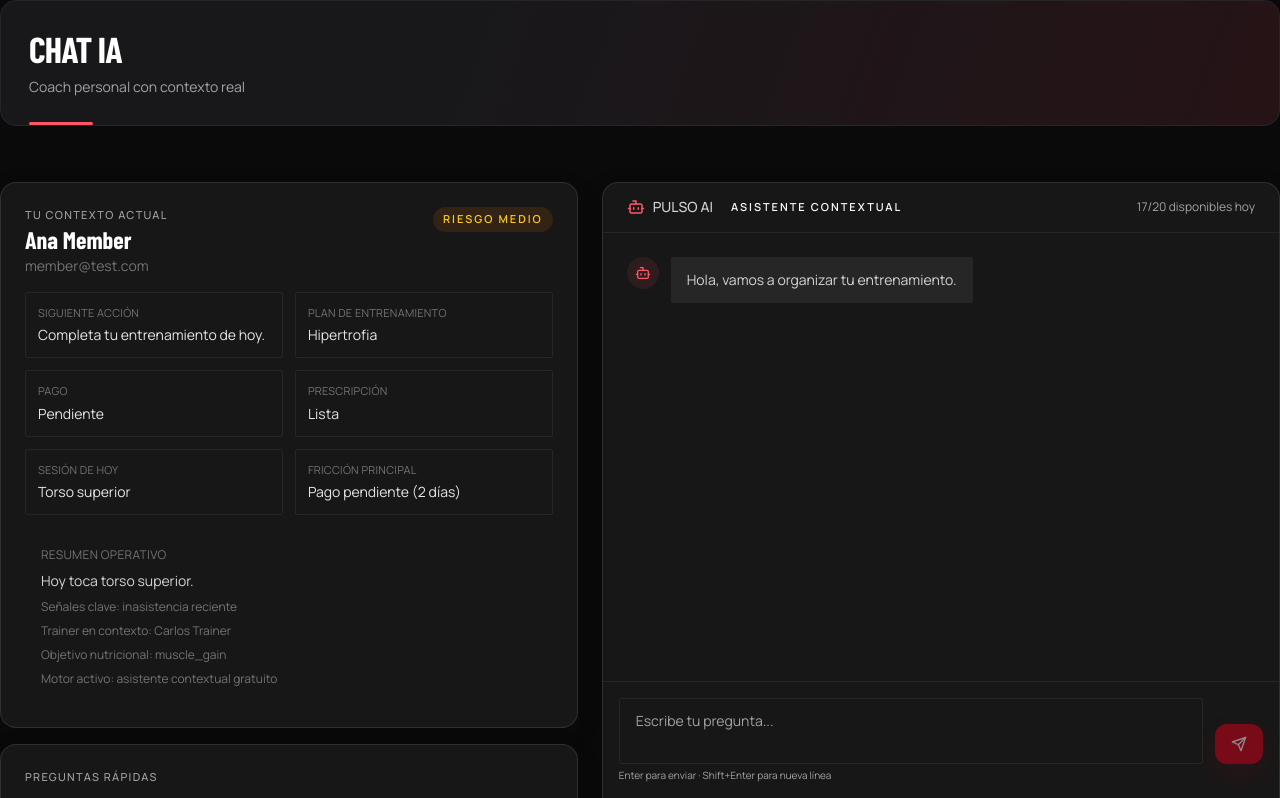
it: AiChatPage › renders member context and sends a contextualized message
The width and height of the screenshot is (1280, 798).
Check: the element with test id "chat-context-panel" is shown, box [0,182,578,728]
Check: the text "Hipertrofia" is shown, box [308,325,377,344]
Type "Necesito ayuda con mi rutina" into the text box with test id "chat-input" at (911, 730), box [619,698,1203,764]
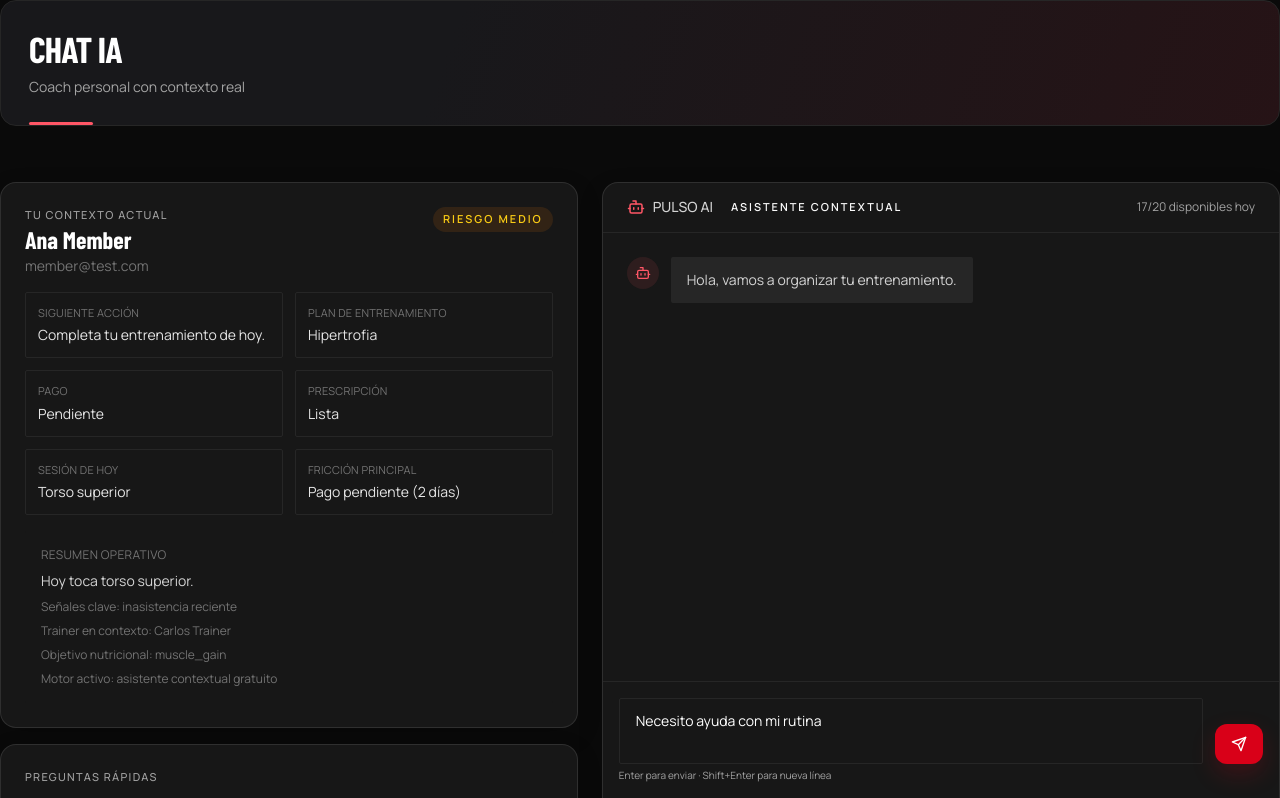
Click the button with test id "chat-send" at (1239, 744), box [1215,724,1263,764]
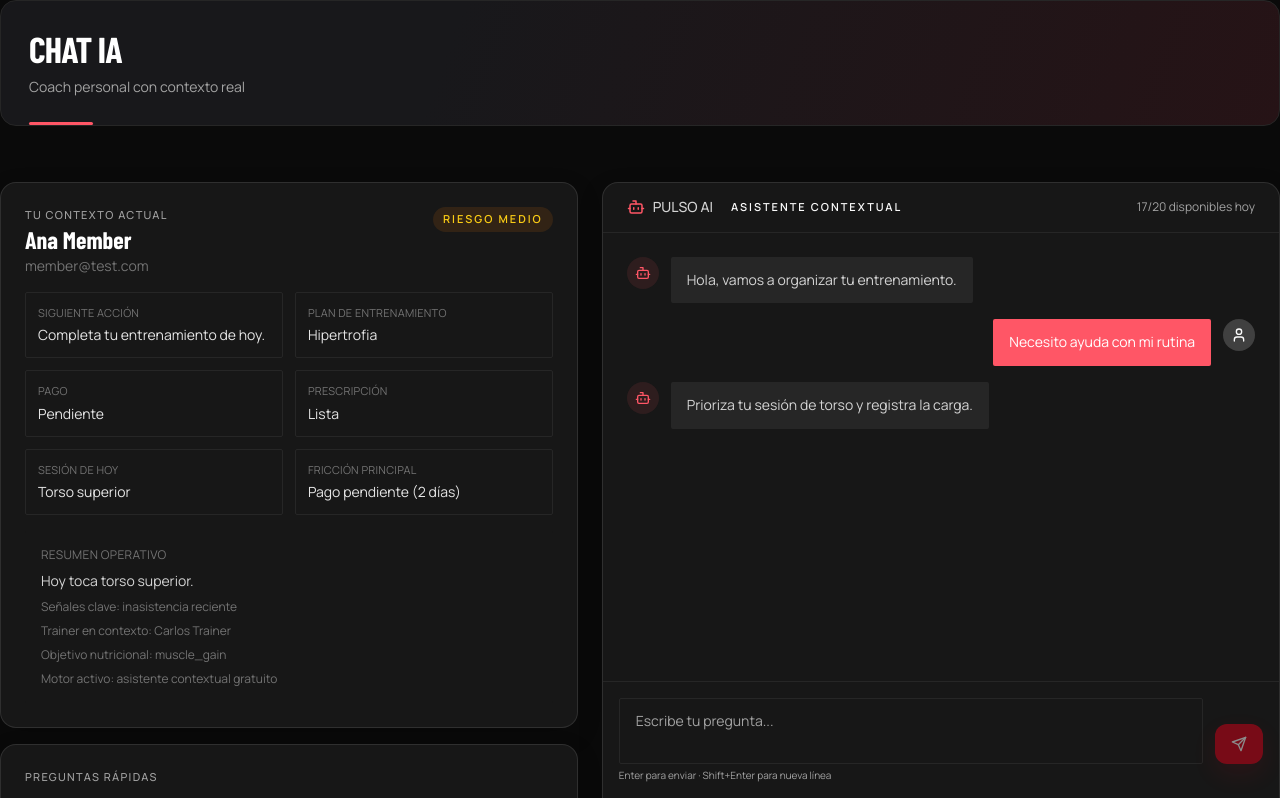
Check: the text "Necesito ayuda con mi rutina" is shown, box [993,319,1211,366]
Check: the text "Prioriza tu sesión de torso y registra la carga." is shown, box [671,382,989,429]
